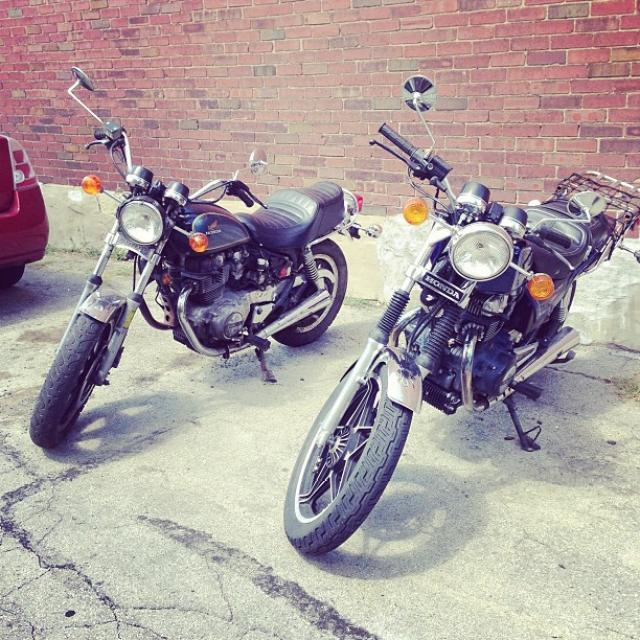motor: (284, 75, 640, 558), (31, 66, 383, 449)
